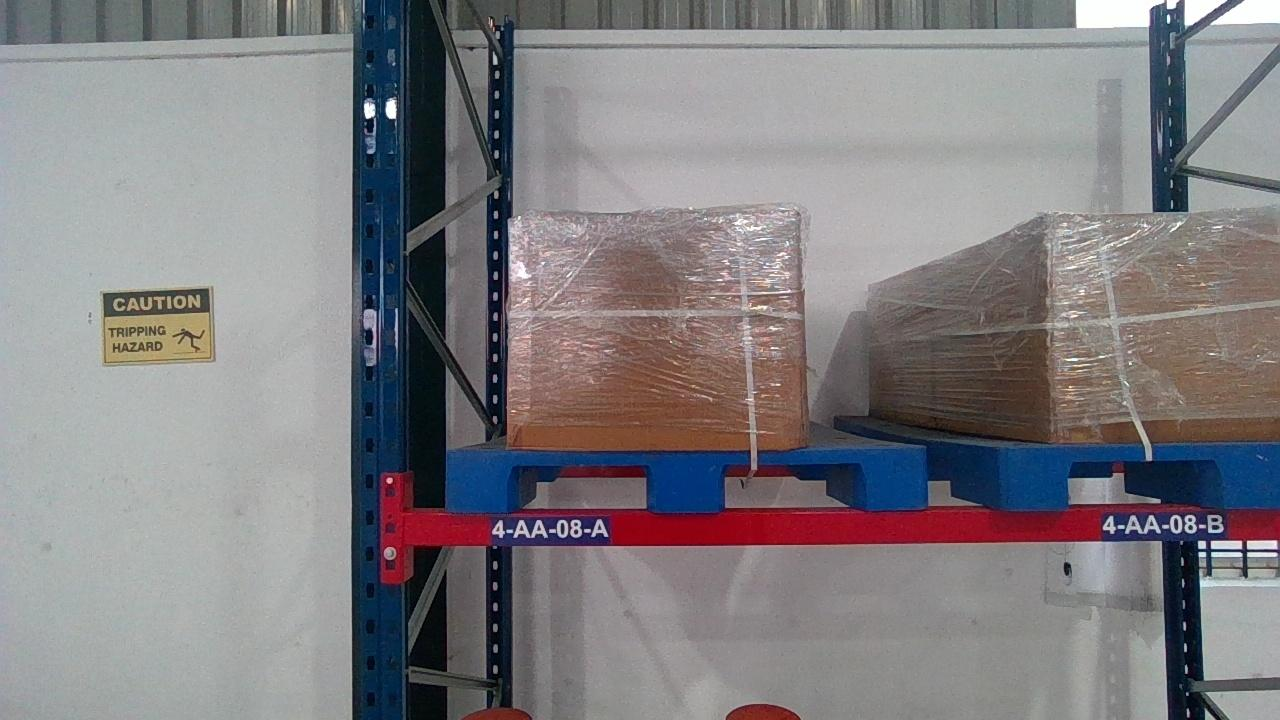h_rack: (404, 509, 1277, 543)
small_pallet: (444, 450, 931, 510), (1003, 443, 1278, 505)
